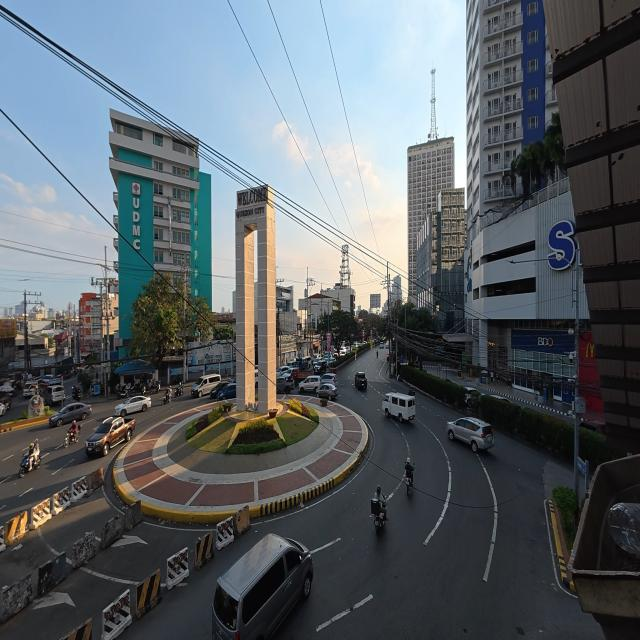car: (448, 417, 494, 452), (49, 403, 91, 426), (115, 396, 151, 416), (299, 376, 320, 393), (316, 383, 338, 399), (580, 420, 605, 434), (276, 376, 294, 394), (210, 381, 228, 399), (218, 383, 236, 399), (465, 387, 482, 402), (355, 372, 367, 390), (490, 394, 512, 403), (321, 373, 337, 385), (276, 365, 292, 376), (314, 361, 327, 374), (324, 355, 335, 365), (287, 360, 297, 369), (0, 403, 5, 415), (340, 348, 347, 356), (386, 354, 389, 361)
motorcycle: (371, 498, 386, 534), (64, 431, 79, 447), (19, 453, 29, 477), (405, 477, 412, 496), (118, 387, 129, 399), (150, 381, 160, 393), (0, 398, 10, 410), (174, 386, 183, 397), (162, 395, 171, 405), (409, 388, 415, 396), (377, 351, 378, 358)
trucks: (85, 417, 135, 456)
vans: (213, 534, 313, 639), (383, 393, 415, 422), (191, 374, 220, 397), (45, 385, 65, 405), (23, 383, 38, 397)
